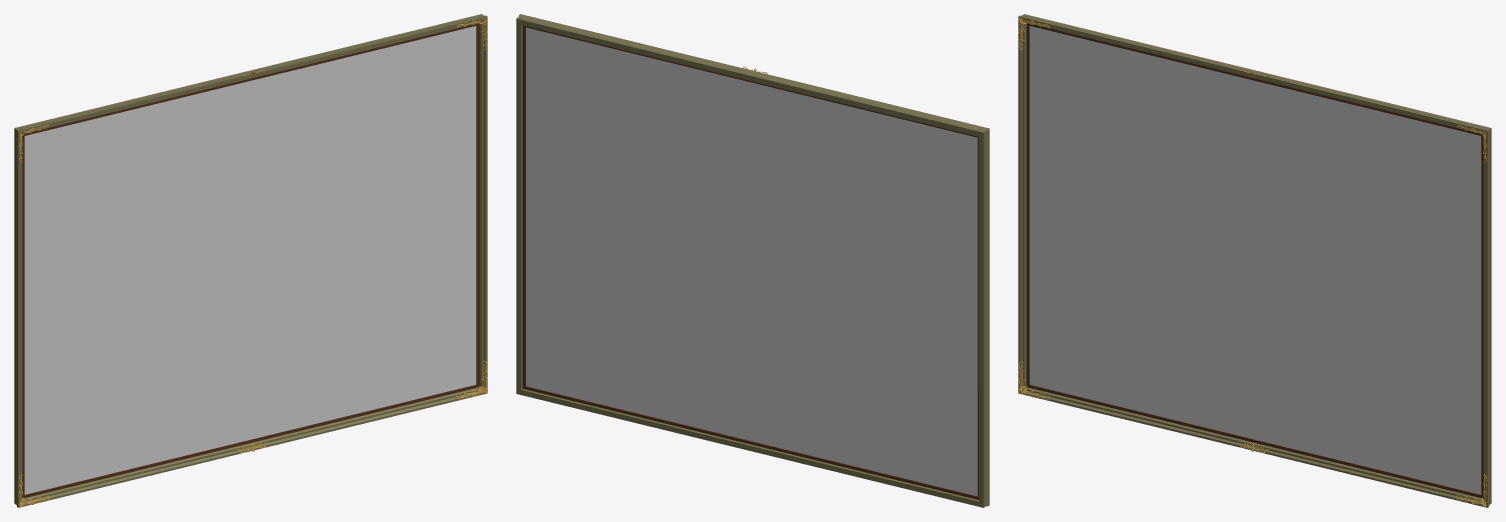
The model's file is frame001_lg.glb.
The picture shows the model from 3 angles, left to right: view 1: azimuth 30°, elevation 25°; view 2: azimuth 150°, elevation 25°; view 3: azimuth 330°, elevation 25°; orthographic projection.
Visible parts, largest first — view 1: canvas_平面, frame_Cube.003, frame_inner_Cube.001, moyou001_Lines.001; view 2: canvas_平面, frame_Cube.003, frame_inner_Cube.001; view 3: canvas_平面, frame_Cube.003, frame_inner_Cube.001, moyou001_Lines.001.
Boxes of the visible parts, x1=… form: canvas_平面: x1=24, y1=26, x2=476, y2=494; frame_Cube.003: x1=14, y1=14, x2=487, y2=507; frame_inner_Cube.001: x1=22, y1=23, x2=479, y2=498; moyou001_Lines.001: x1=19, y1=18, x2=487, y2=507; canvas_平面: x1=526, y1=27, x2=977, y2=496; frame_Cube.003: x1=516, y1=14, x2=989, y2=507; frame_inner_Cube.001: x1=522, y1=25, x2=978, y2=499; canvas_平面: x1=1029, y1=26, x2=1481, y2=494; frame_Cube.003: x1=1018, y1=14, x2=1491, y2=507; frame_inner_Cube.001: x1=1026, y1=23, x2=1483, y2=498; moyou001_Lines.001: x1=1018, y1=18, x2=1486, y2=506.
Size of the model in its own units: 72.55 by 56.1 by 1.57.
